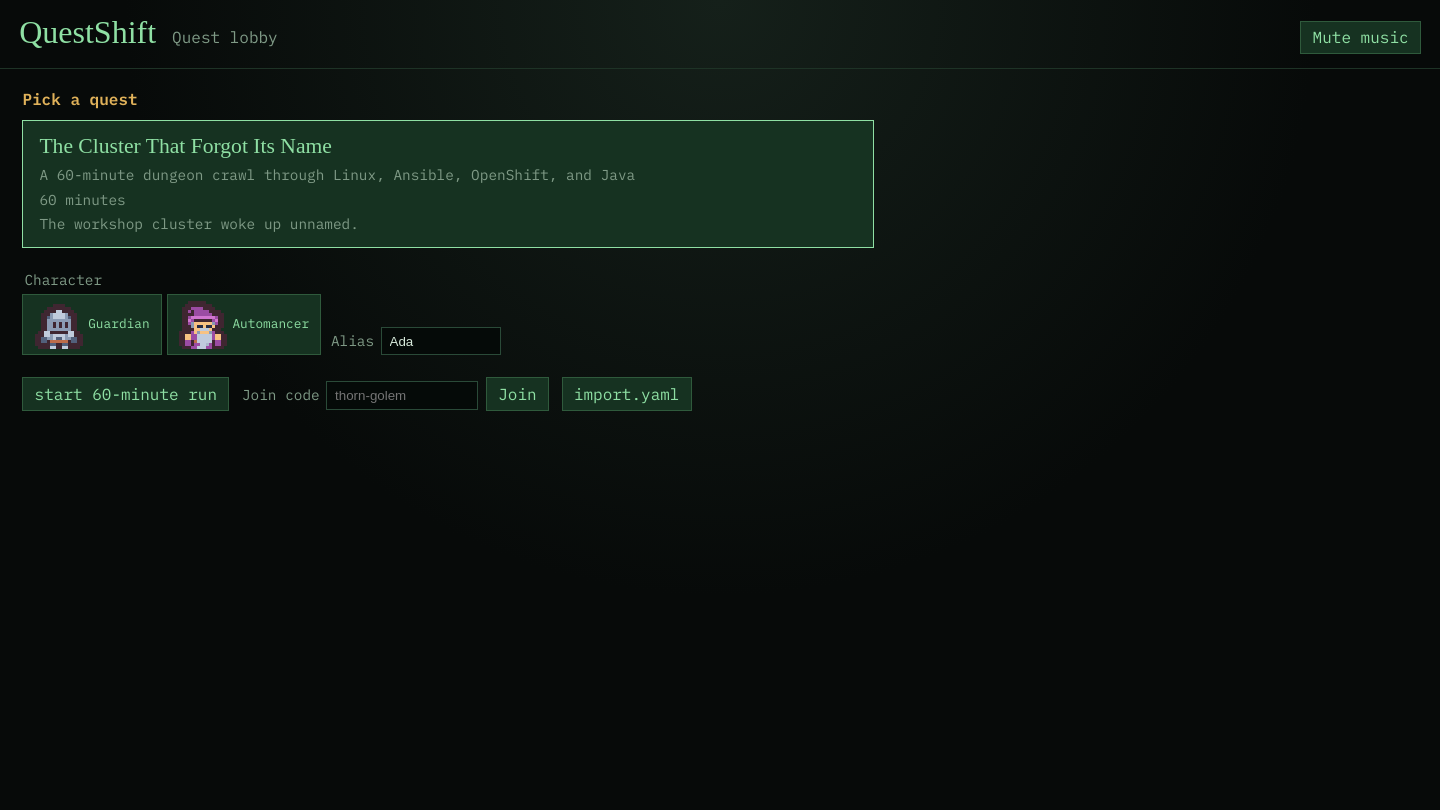
App › shows a join error on the lobby
Type "nope-ward" into the field labelled "Join code" at (402, 396), box [326,382,478,410]
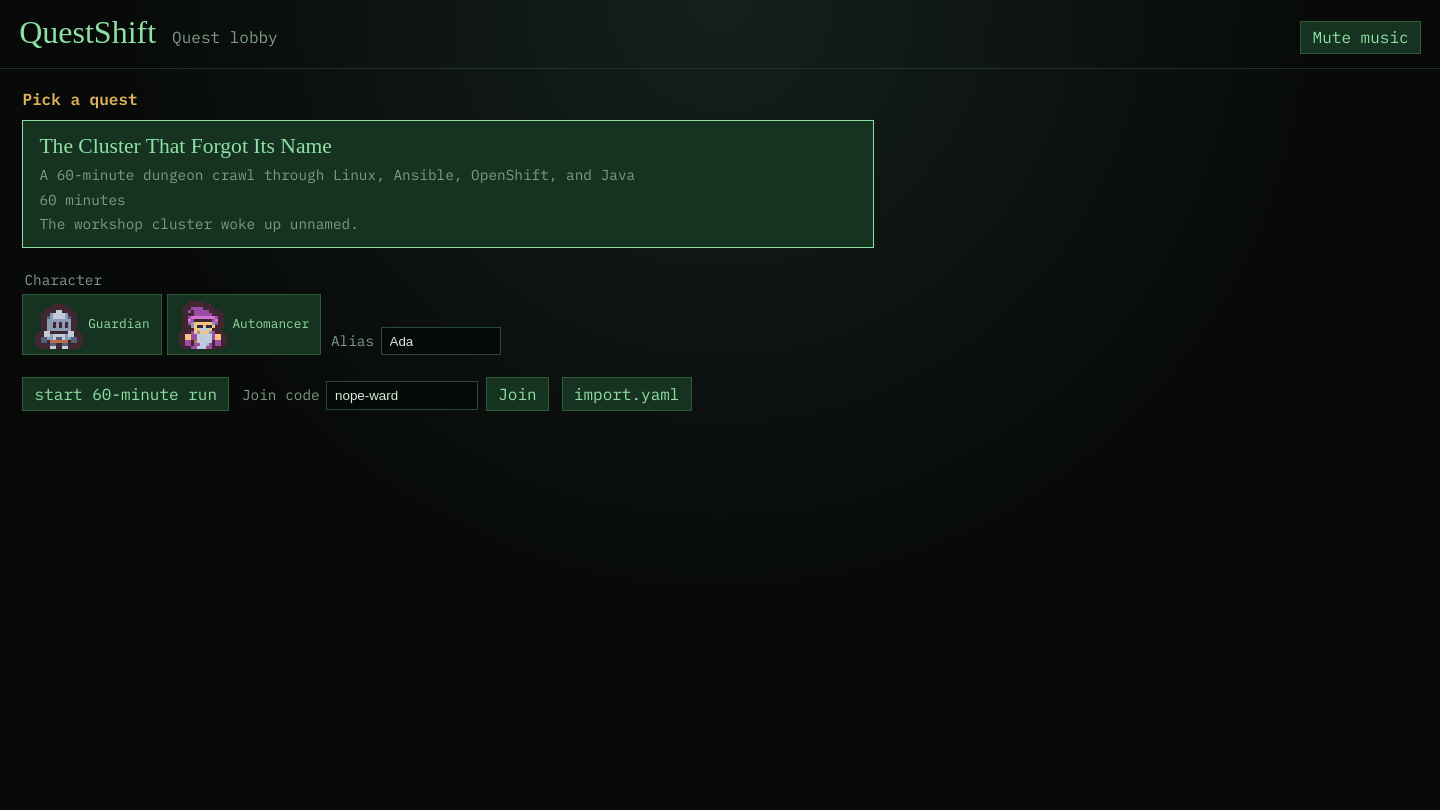
Click the button "Join" at (518, 394), box [486,378,549,411]
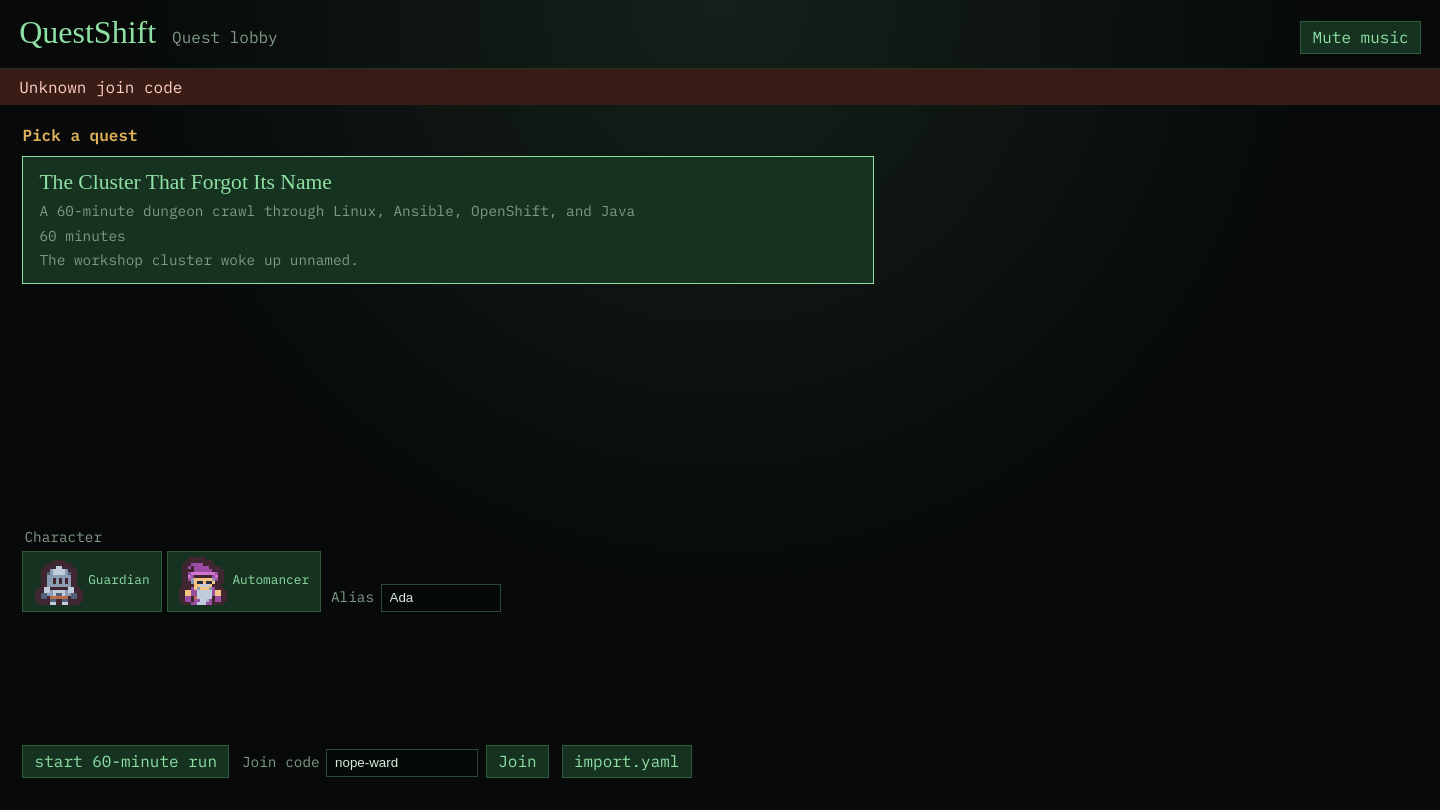
Expected: the element named "Quest lobby" is shown, [0,105,896,809]
Expected: the text "Unknown join code" is shown, [0,69,1439,105]
